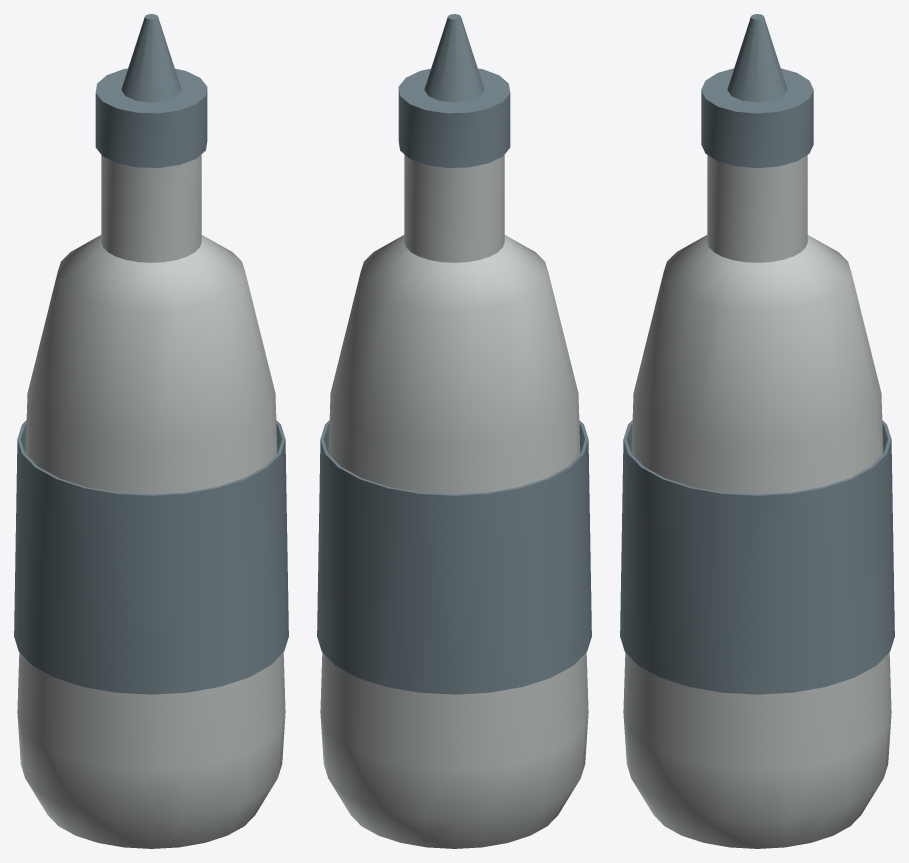
File: ketchup-bottle.glb
3 views of the same model, side by side, from view 1: azimuth 30°, elevation 25°; view 2: azimuth 150°, elevation 25°; view 3: azimuth 270°, elevation 25° (orthographic).
Parts seen in each view (by area): view 1: bottle_body, raised_label_band, closure, squeeze_nozzle; view 2: bottle_body, raised_label_band, closure, squeeze_nozzle; view 3: bottle_body, raised_label_band, closure, squeeze_nozzle.
Part boxes in pixels (x1,y1,x2,y2): bottle_body: [17, 154, 285, 848]; raised_label_band: [14, 420, 288, 694]; closure: [95, 68, 207, 167]; squeeze_nozzle: [121, 14, 181, 102]; bottle_body: [320, 154, 588, 848]; raised_label_band: [317, 420, 591, 694]; closure: [398, 68, 510, 167]; squeeze_nozzle: [424, 14, 484, 102]; bottle_body: [623, 155, 891, 848]; raised_label_band: [620, 420, 894, 694]; closure: [701, 68, 813, 168]; squeeze_nozzle: [727, 14, 787, 102].
Bounding box in the file's own units: 0.082 × 0.259 × 0.082.
